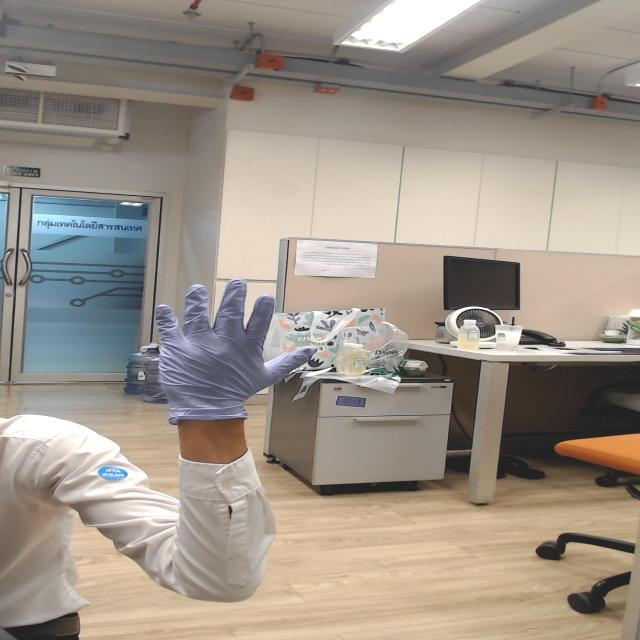glove: (134, 277, 327, 393)
